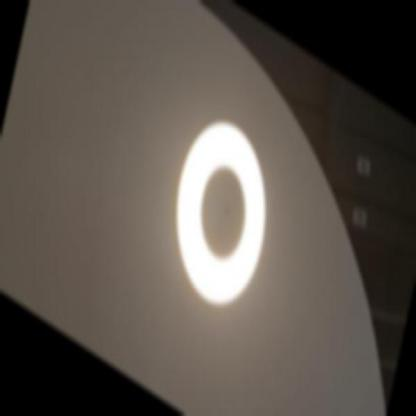light_on: (144, 75, 302, 350)
